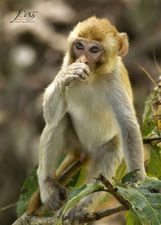monkey: (24, 28, 145, 225)
